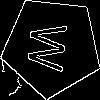W: (26, 21, 76, 74)
